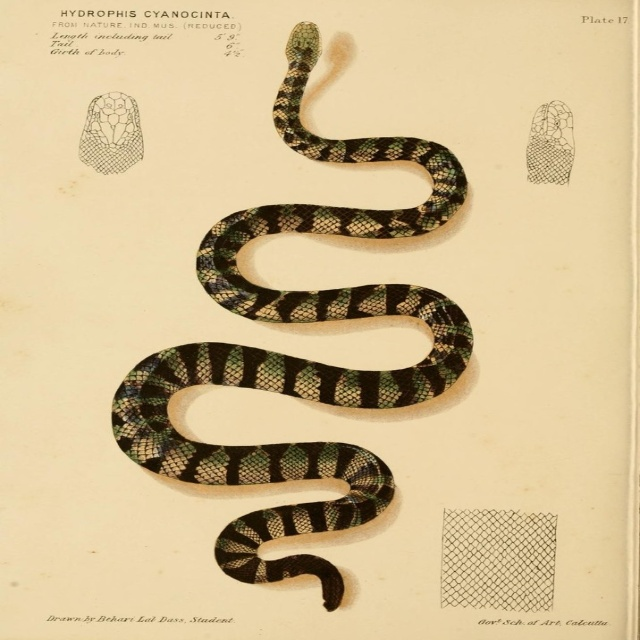Snake: (110, 22, 472, 614)
